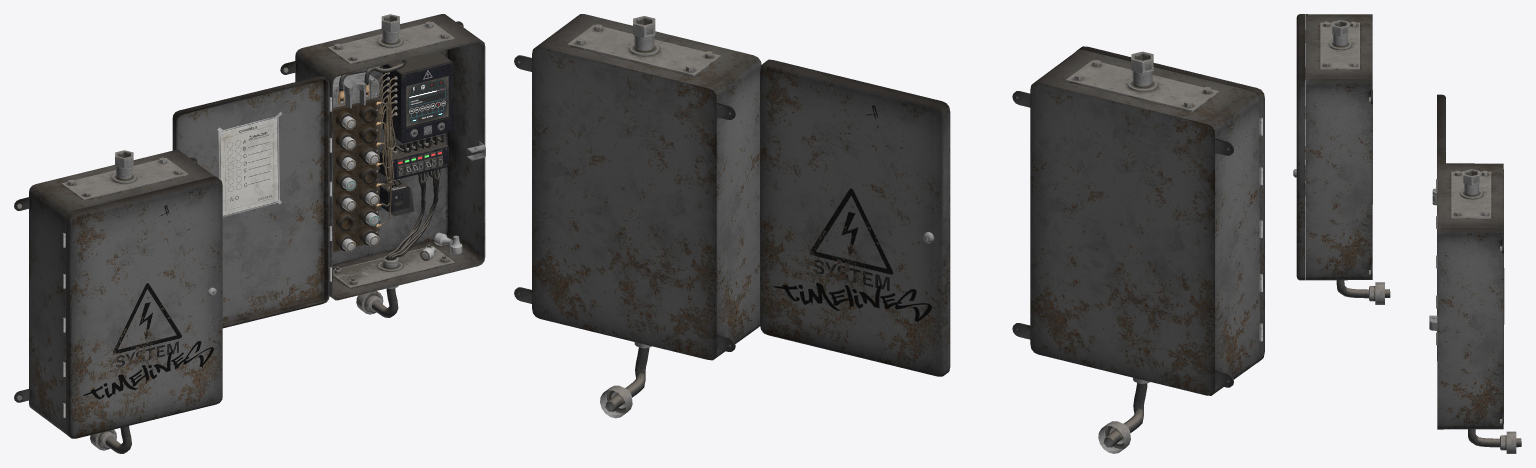
Rendered from fuseboxa.glb.
3 renders of one model, left to right at view 1: azimuth 30°, elevation 25°; view 2: azimuth 150°, elevation 25°; view 3: azimuth 270°, elevation 25°, orthographic. The views are drawn at different scales.
Visible parts, largest first — view 1: Object289_PartsC_0, Object288_PartsC_0, Box081, Box101, Box082, bPartsLO001, Box102, Plane001, aPartsLO001, Shape005, Box084, Box083 (+4 smaller); view 2: Box101, Box081, Object288_PartsC_0, Box102, Box082, Object289_PartsC_0, Cylinder251, Cylinder199, Line037, Line044; view 3: Box081, Box101, Object289_PartsC_0, Box082, Box102, Object288_PartsC_0, Line037, Line044, Object230_PartsA_0, Object268_PartsA_0, Object242_PartsA_0, Object204_PartsA_0 (+2 smaller).
Part boxes in pixels (x1,y1,x2,y2): Object289_PartsC_0: (65,176,222,438); Object288_PartsC_0: (172,76,329,328); Box081: (295,14,485,300); Box101: (29,150,214,433); Box082: (328,22,454,288); bPartsLO001: (383,52,453,143); Box102: (61,158,188,200); Plane001: (406,76,448,126); aPartsLO001: (333,72,379,108); Shape005: (381,77,395,225); Box084: (380,139,448,180); Box083: (380,180,409,212); Box101: (1030,49,1260,395); Box081: (532,14,761,360); Object288_PartsC_0: (760,59,950,376); Box102: (1065,60,1218,111); Box082: (567,24,720,76); Object289_PartsC_0: (1077,46,1264,362); Cylinder251: (1012,91,1233,387); Cylinder199: (514,55,735,351); Line037: (605,347,649,411); Line044: (1103,383,1147,447); Box081: (1437,163,1504,429); Box101: (1306,14,1372,280); Object289_PartsC_0: (1293,14,1305,280); Box082: (1451,171,1491,218); Box102: (1320,22,1359,69); Object288_PartsC_0: (1432,94,1445,360); Line037: (1468,429,1521,447); Line044: (1336,280,1390,298); Object230_PartsA_0: (1500,431,1516,453); Object268_PartsA_0: (1369,282,1384,304); Object242_PartsA_0: (1329,34,1351,49); Object204_PartsA_0: (1460,183,1482,199).
Size of the model in its own units: 123 by 69.62 by 51.59.
Materials: 7 (5 with a texture image).
